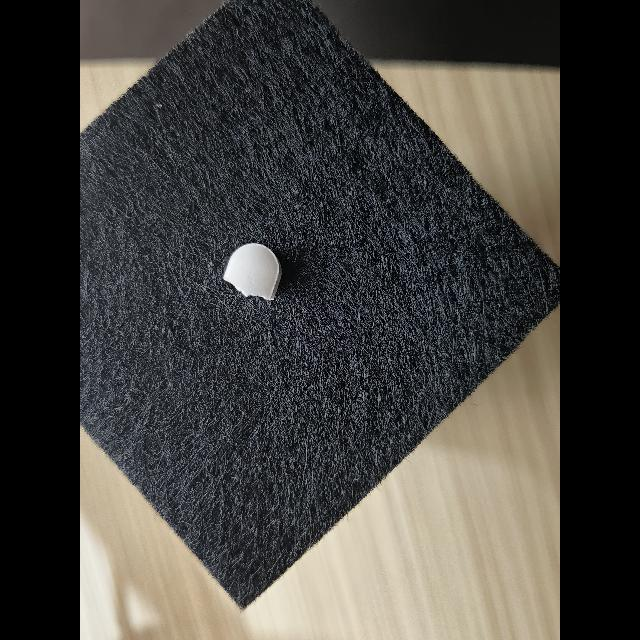Chipped Pill: (223, 243, 282, 301)
